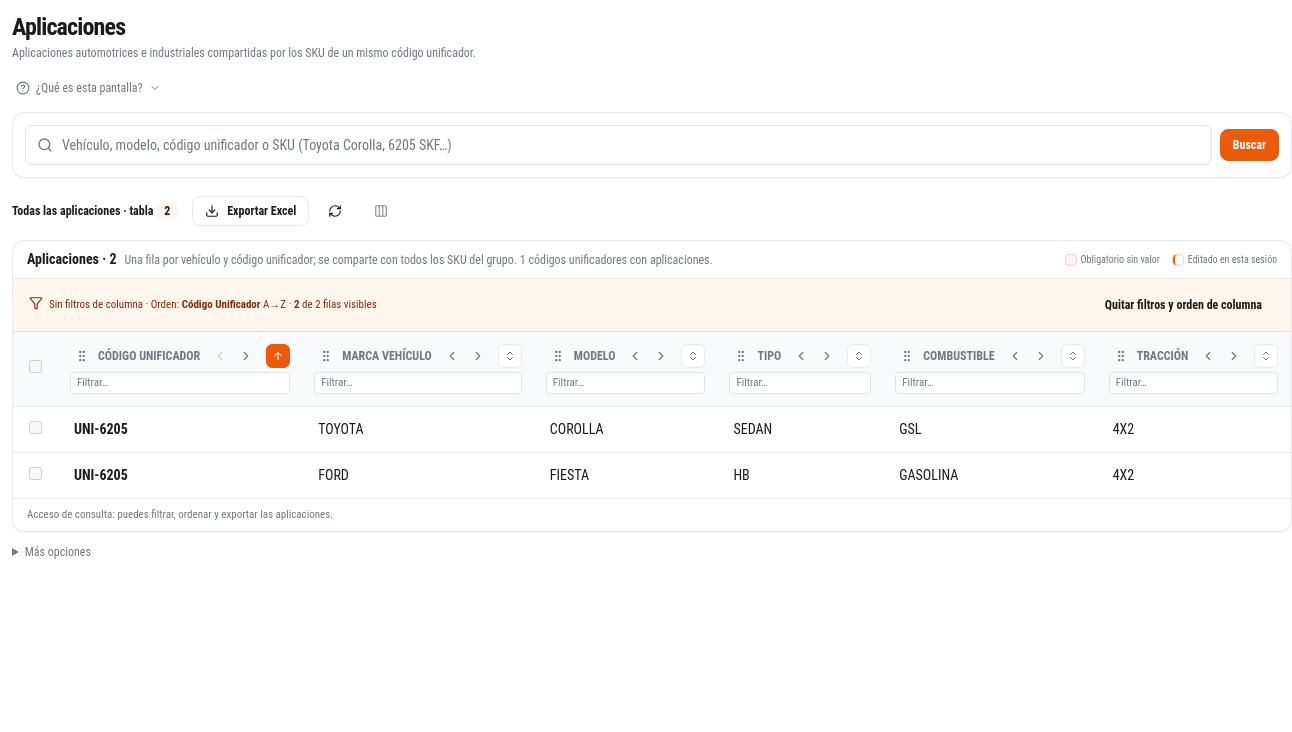
Test case: catálogo secundario aprobado › reordena las columnas de aplicaciones con controles accesibles y persiste la preferencia
The width and height of the screenshot is (1292, 732).
Click the button named "Mover columna Marca Vehículo a la izquierda": x=452, y=356 x1=440 y1=344 x2=464 y2=368
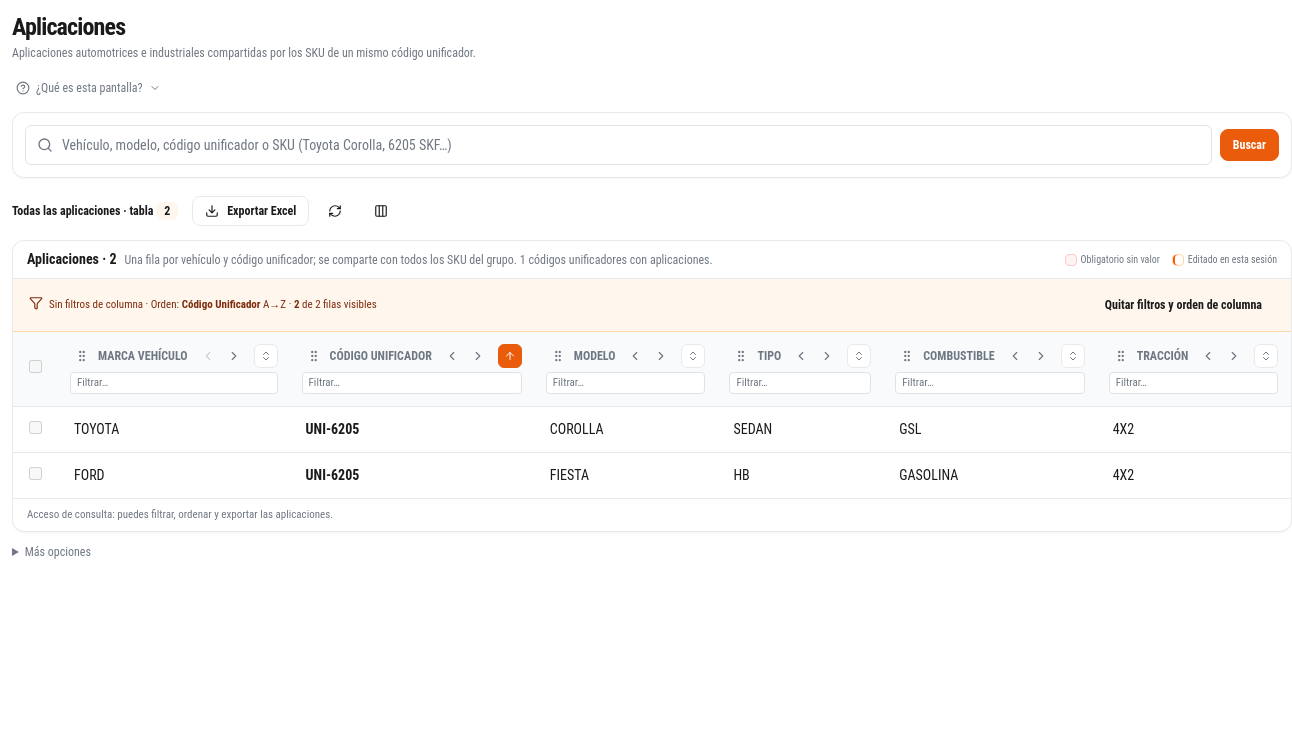
Now the button named "Restaurar columnas" is enabled, box x1=361 y1=196 x2=401 y2=226
